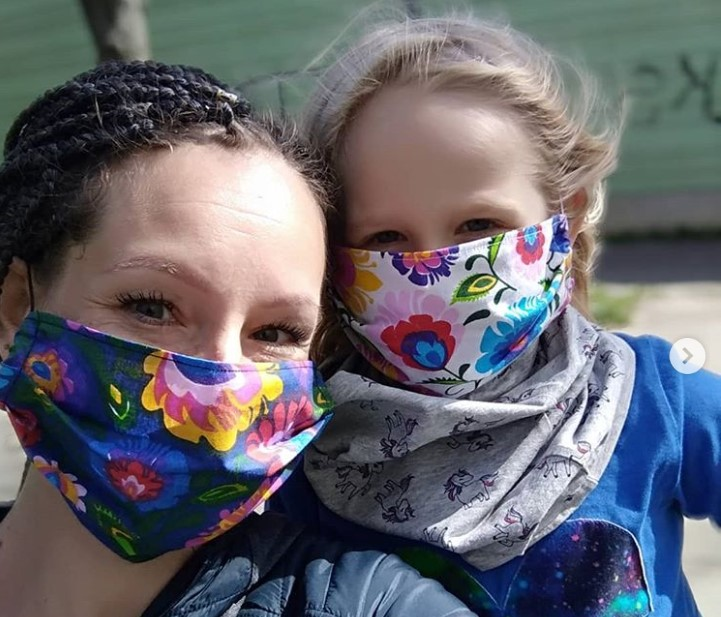face_with_mask: (12, 70, 342, 563), (308, 14, 601, 400)
